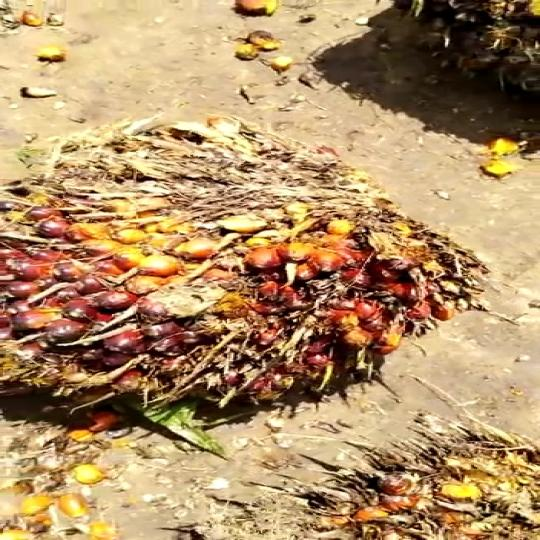masak: (0, 107, 510, 429)
